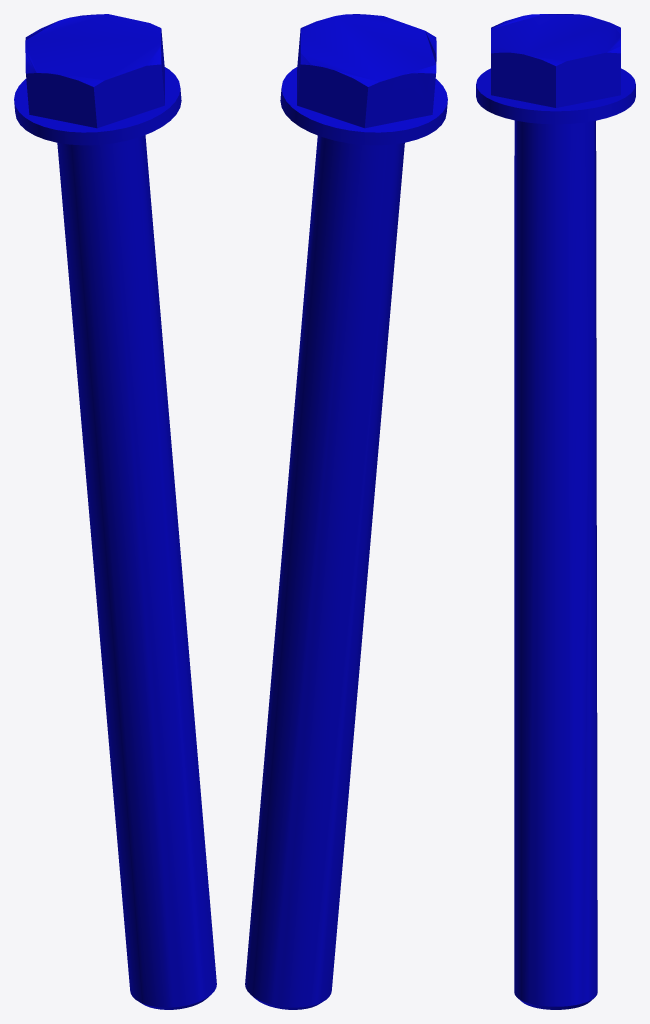
File: SM_LongditudalAdapter_Bolt_02.fbx
The picture shows the model from 3 angles, left to right: view 1: azimuth 30°, elevation 25°; view 2: azimuth 150°, elevation 25°; view 3: azimuth 270°, elevation 25°; orthographic projection. The views are drawn at different scales.
Parts seen in each view (by area): view 1: SM_LeftLongitudinalAdapter.005; view 2: SM_LeftLongitudinalAdapter.005; view 3: SM_LeftLongitudinalAdapter.005.
Boxes of the visible parts, <box> form: SM_LeftLongitudinalAdapter.005: <box>14,14,216,1009</box>; SM_LeftLongitudinalAdapter.005: <box>245,14,447,1009</box>; SM_LeftLongitudinalAdapter.005: <box>476,14,635,1009</box>.
Size of the model in its own units: 11.77 by 58.97 by 9.16.
